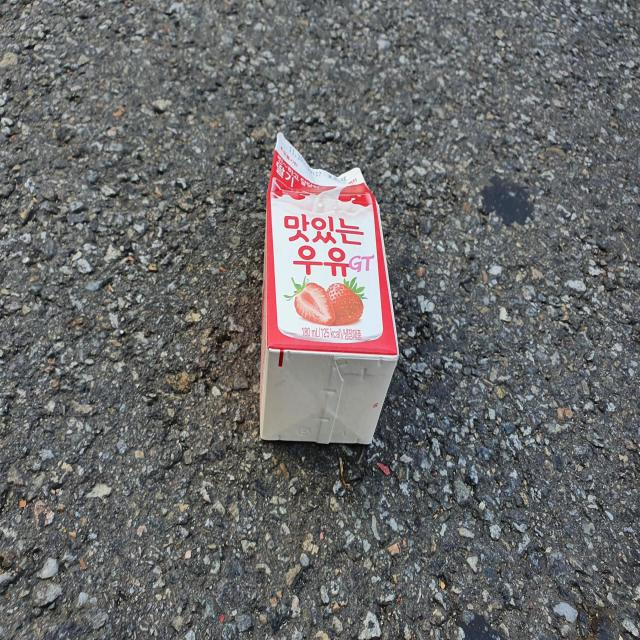paperpack: (261, 132, 399, 445)
